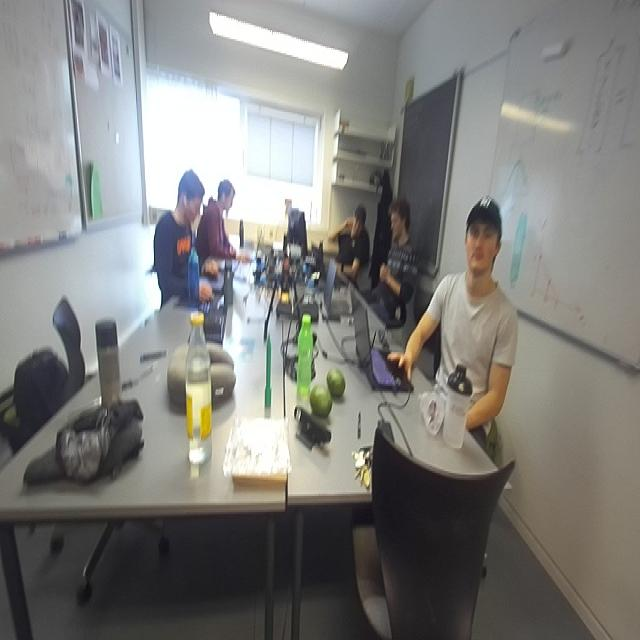probe: (264, 334, 270, 409)
